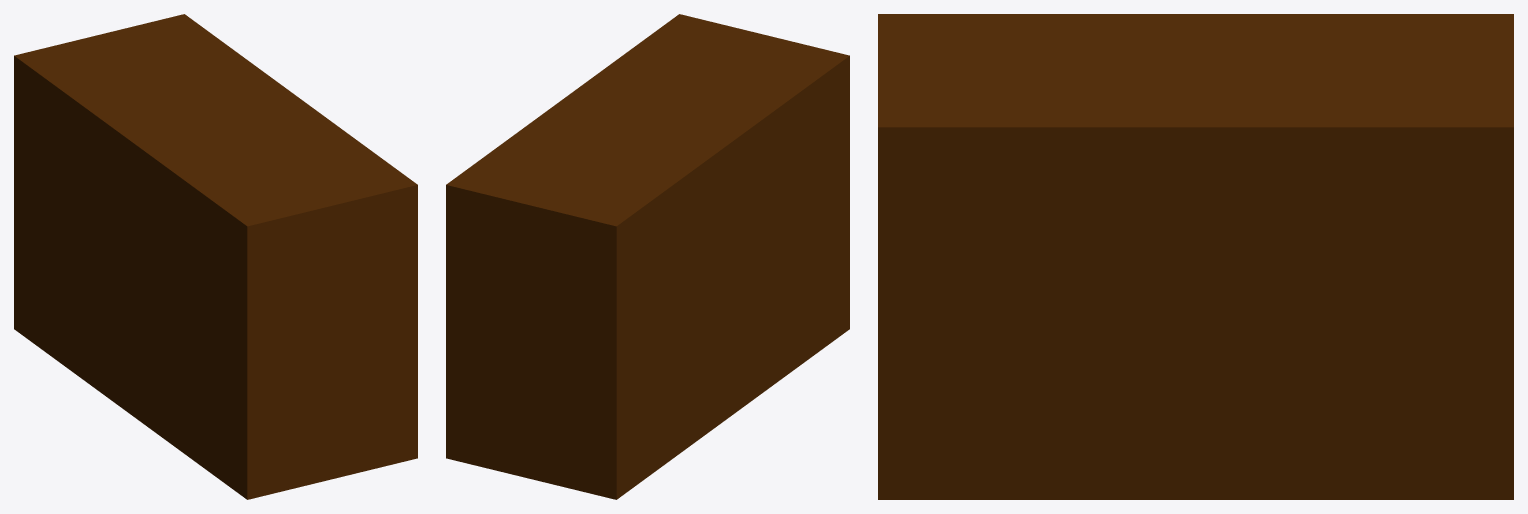
File: desk.glb
3 views of the same model, side by side, from view 1: azimuth 30°, elevation 25°; view 2: azimuth 150°, elevation 25°; view 3: azimuth 270°, elevation 25° (orthographic). The views are drawn at different scales.
Parts seen in each view (by area): view 1: desk; view 2: desk; view 3: desk.
Part boxes in pixels (x1,y1,x2,y2): desk: (14, 14, 417, 499); desk: (446, 14, 849, 499); desk: (878, 14, 1513, 499).
Size of the model in its own units: 0.6526 by 1 by 1.55.
